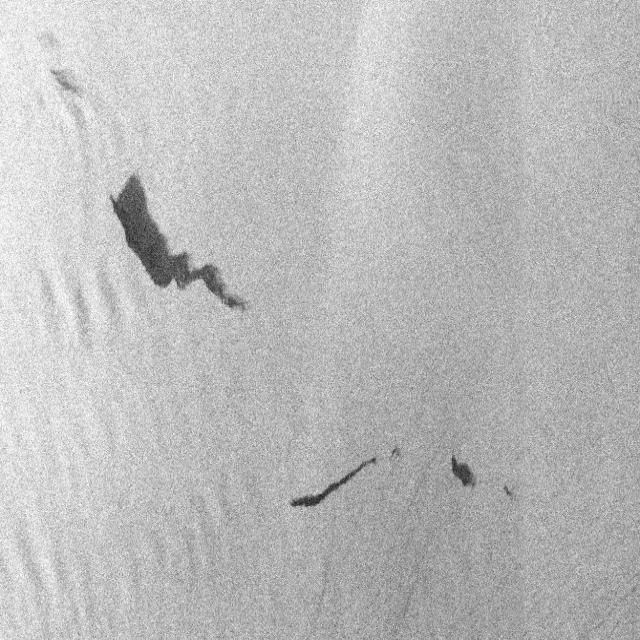oil-spill: (100, 165, 252, 322), (283, 440, 382, 523), (449, 443, 479, 498)
